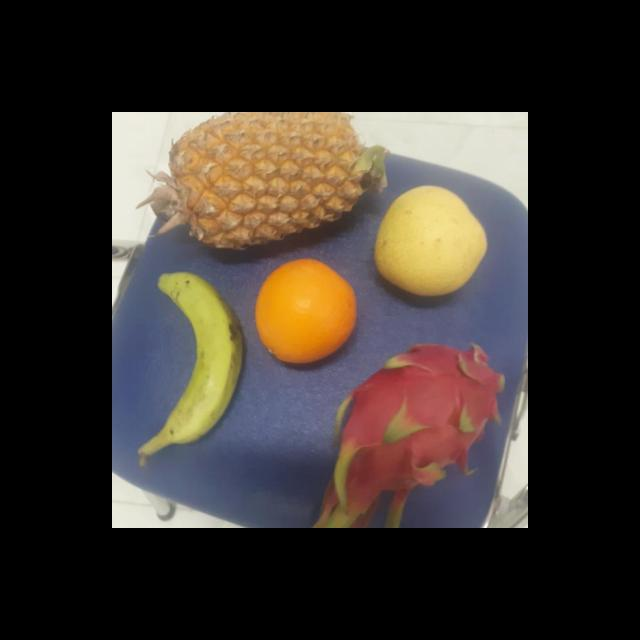banana: (151, 276, 247, 448)
guava: (373, 189, 491, 296)
pineapple: (168, 112, 380, 256)
pitaya: (335, 344, 512, 484)
